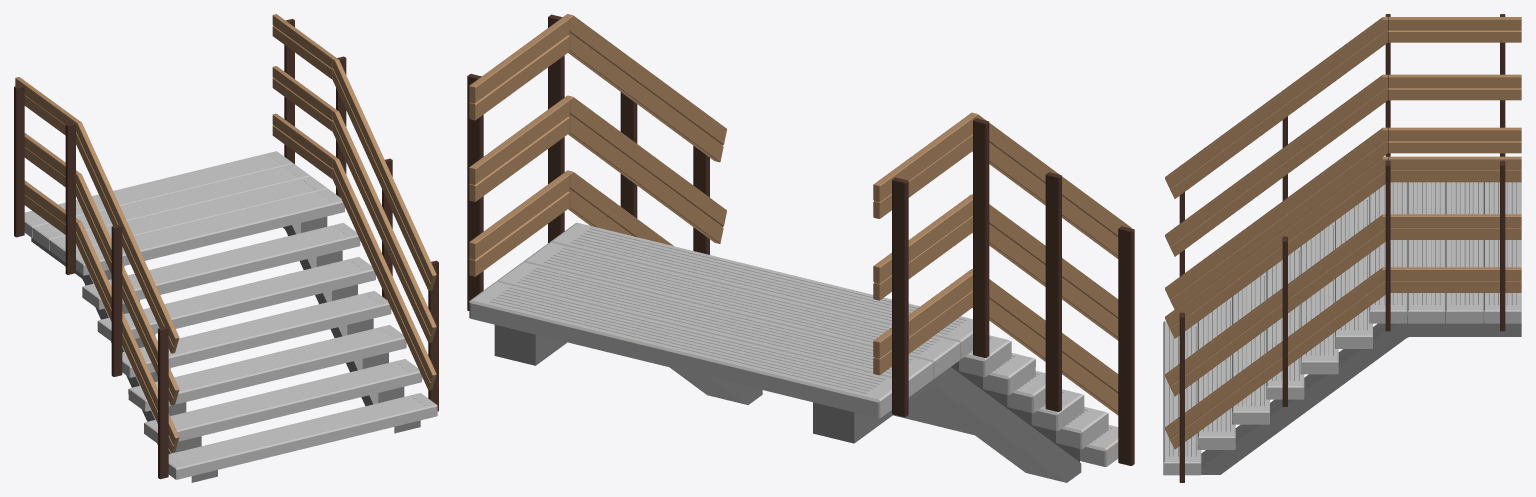
Rendered from sh-contrib-outdoor-staircase.glb.
3 views of the same model, side by side, from view 1: azimuth 30°, elevation 25°; view 2: azimuth 150°, elevation 25°; view 3: azimuth 270°, elevation 25° (orthographic). The views are drawn at different scales.
Parts seen in each view (by area): view 1: Stair069, Box012, Box001, Bottom002; view 2: Stair069, Box012, Box001, Bottom002; view 3: Box012, Stair069, Bottom002, Box001.
Boxes of the visible parts, box(x1,y1,x2,y2) form: Stair069: box(24, 151, 437, 479); Box012: box(15, 14, 436, 452); Box001: box(14, 19, 438, 479); Bottom002: box(31, 216, 420, 482); Stair069: box(469, 222, 1118, 466); Box012: box(469, 14, 1131, 415); Box001: box(467, 14, 1134, 465); Bottom002: box(494, 325, 1081, 482); Box012: box(1165, 17, 1521, 449); Stair069: box(1163, 182, 1521, 475); Bottom002: box(1201, 323, 1521, 474); Box001: box(1179, 14, 1505, 482).
Bounding box in the file's own units: 1 × 1 × 1.
